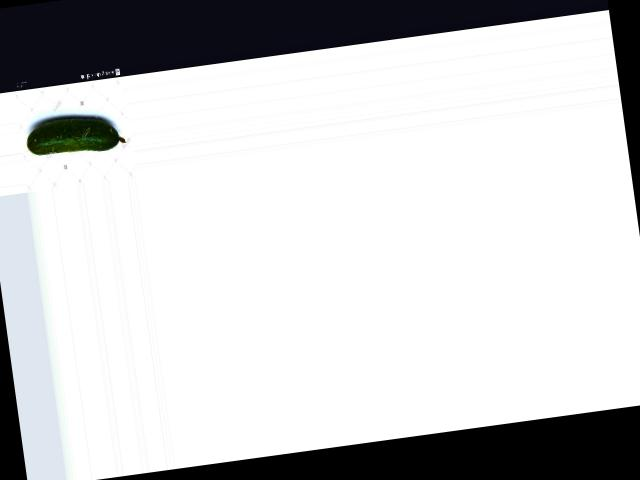cucumber: (23, 110, 126, 161)
